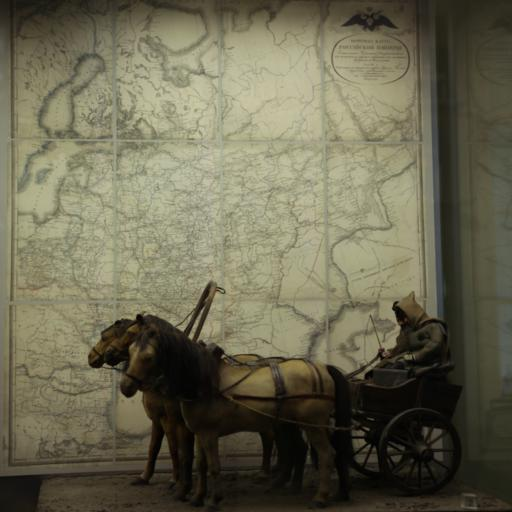horse: (118, 322, 358, 508), (102, 310, 311, 503), (86, 317, 276, 491)
